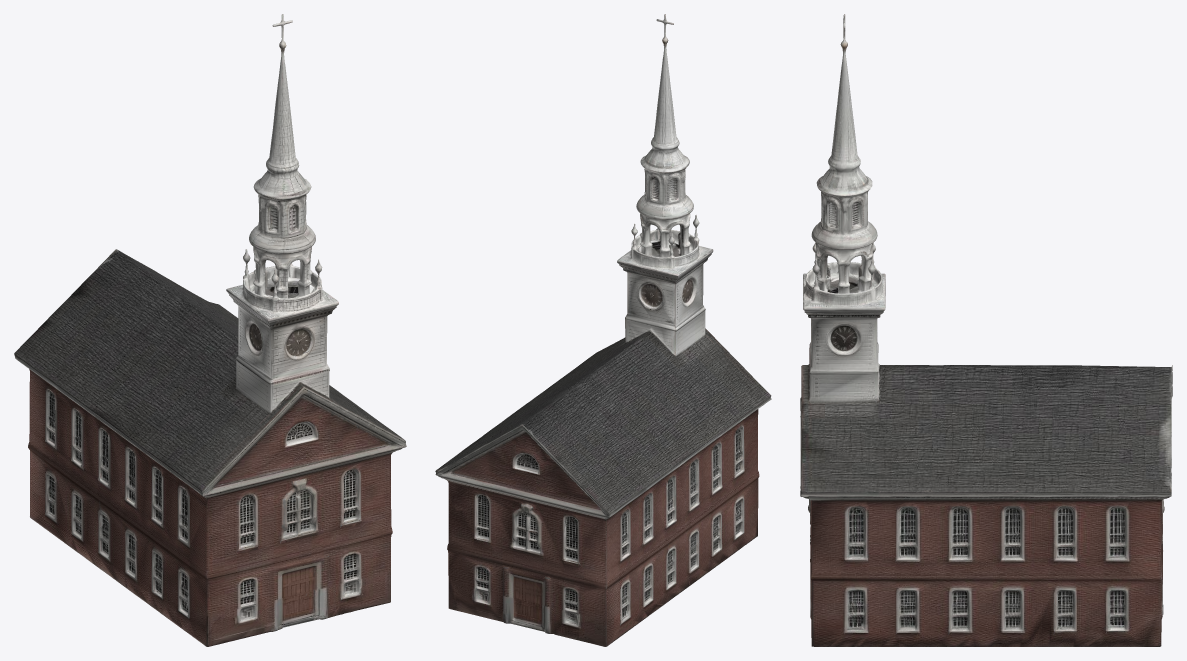
File: church-meetinghouse.glb
3 renders of one model, left to right at view 1: azimuth 30°, elevation 25°; view 2: azimuth 150°, elevation 25°; view 3: azimuth 270°, elevation 25°, orthographic. The views are drawn at different scales.
Visible parts, largest first — view 1: Mesh_0; view 2: Mesh_0; view 3: Mesh_0.
Part boxes in pixels (x1=…): Mesh_0: x1=14, y1=14, x2=406, y2=646; Mesh_0: x1=435, y1=14, x2=771, y2=646; Mesh_0: x1=800, y1=14, x2=1172, y2=646.
Bounding box in the file's own units: 0.6791 × 1.9 × 1.09.
1 material, 1 textured.
